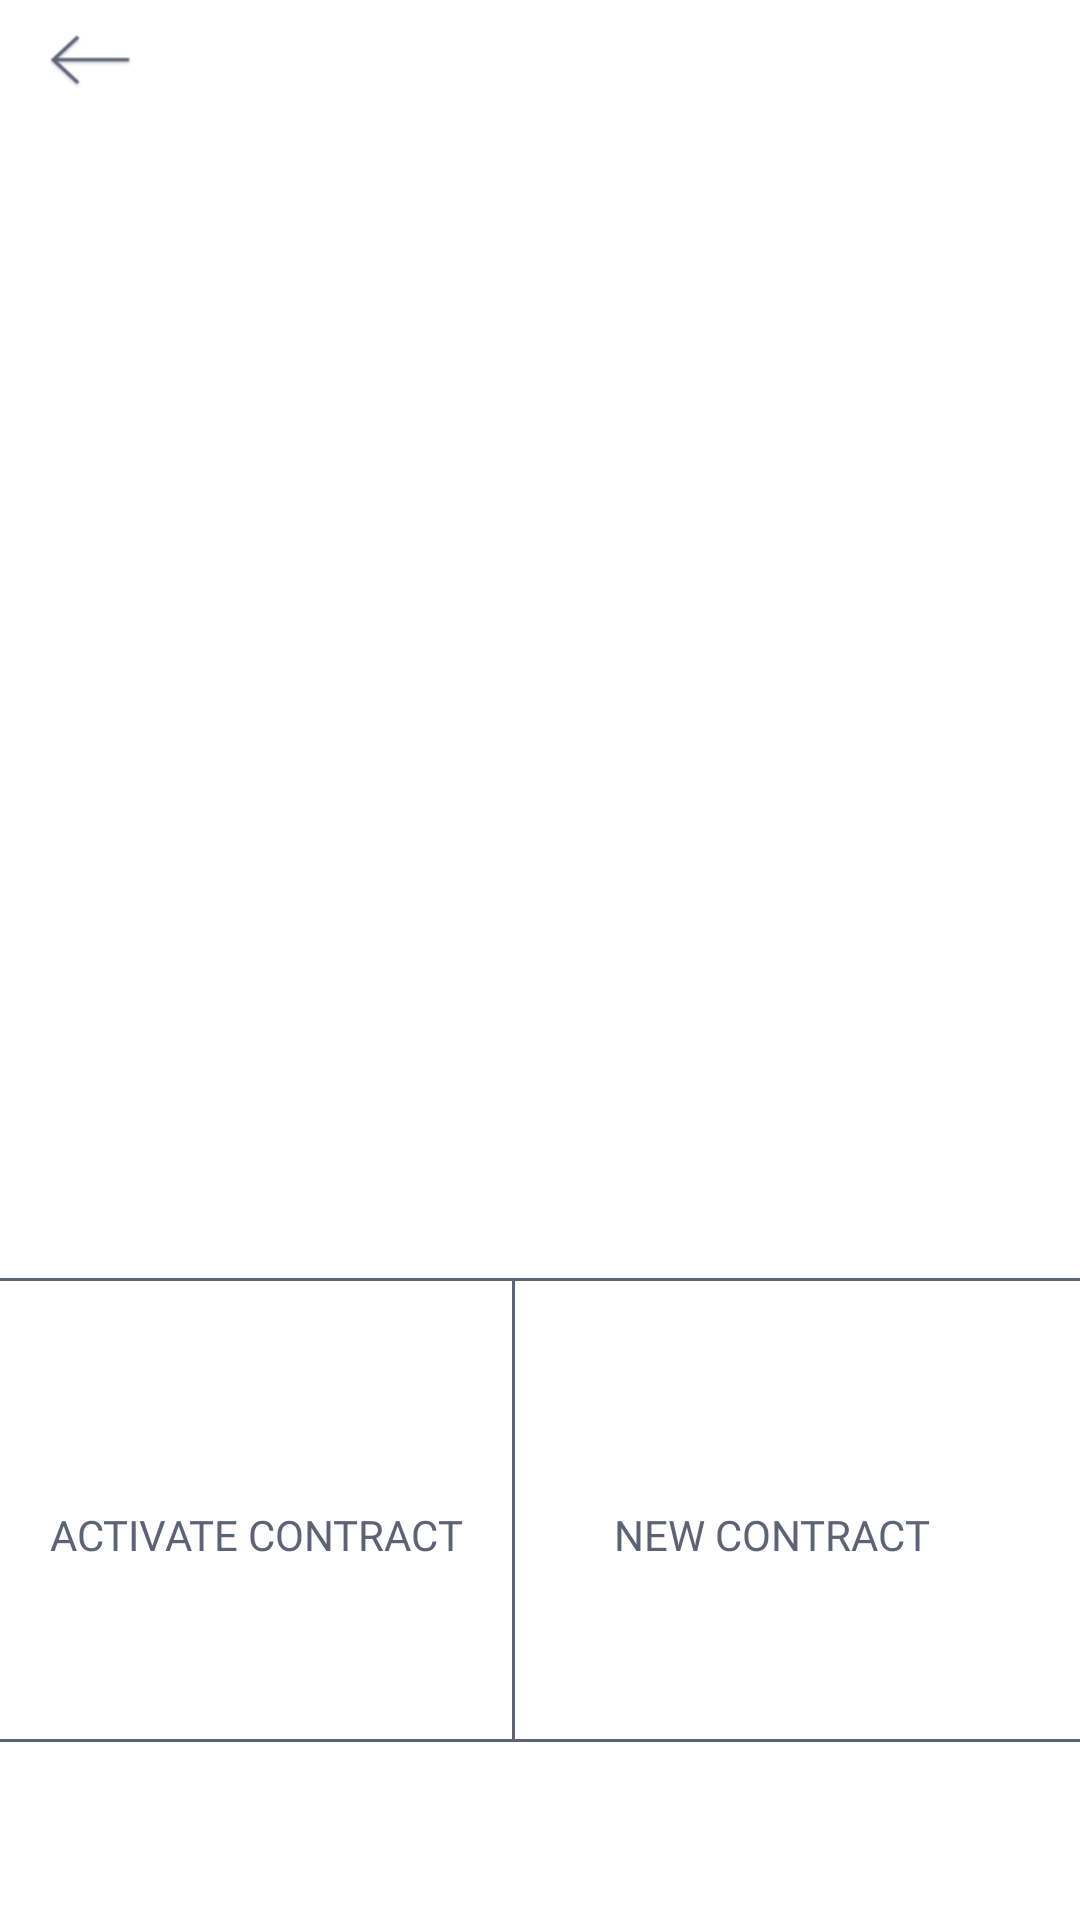

Icons on this 1080*1920 Android screen, each with the point to tap as (x,y):
back: (90,60)
